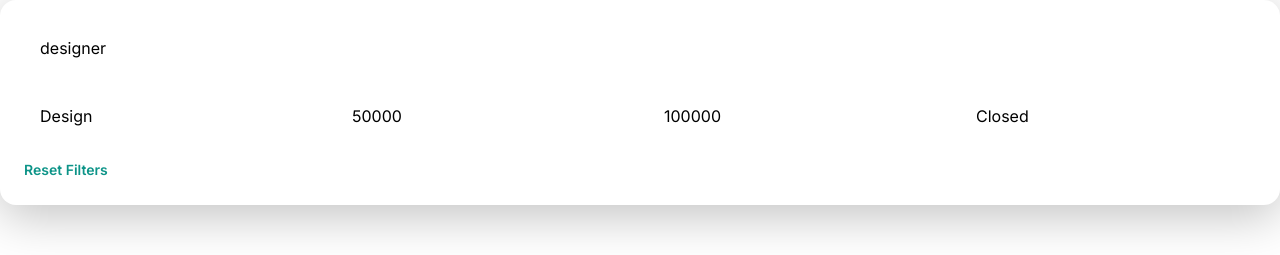
Test: FilterBar › should handle reset filters click
Click the button "Reset Filters": x=66, y=170 24,160 -> 108,180
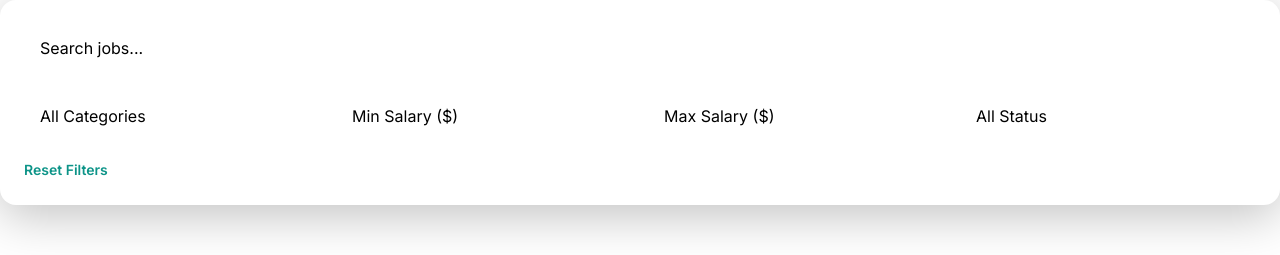
Expected: the field with placeholder "Search jobs..." is empty, 24,24 -> 1256,72
